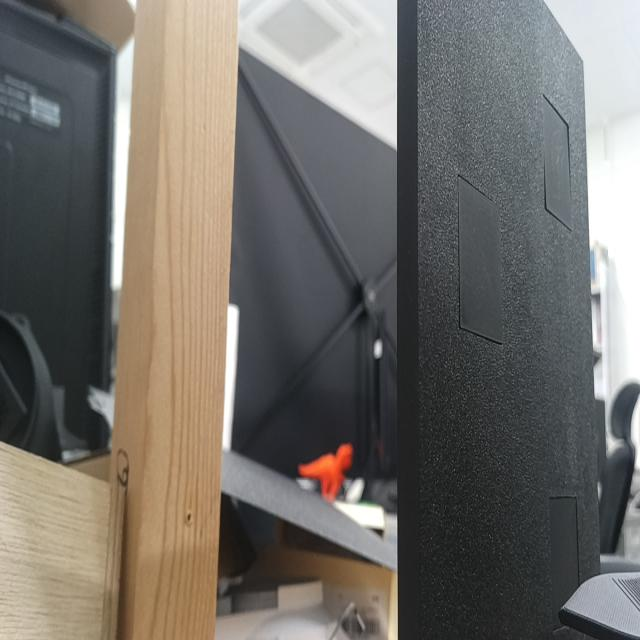Wall: (417, 0, 603, 639)
